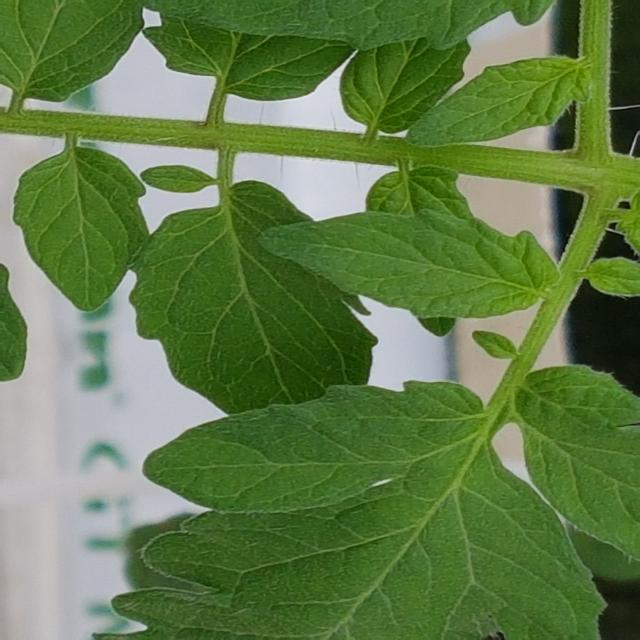Healthy Leaf: (101, 383, 605, 640), (131, 183, 378, 415), (261, 214, 555, 319), (521, 365, 640, 563), (14, 148, 149, 312), (146, 15, 356, 100), (408, 58, 596, 150), (1, 1, 148, 101), (344, 39, 471, 135), (141, 165, 217, 195)
